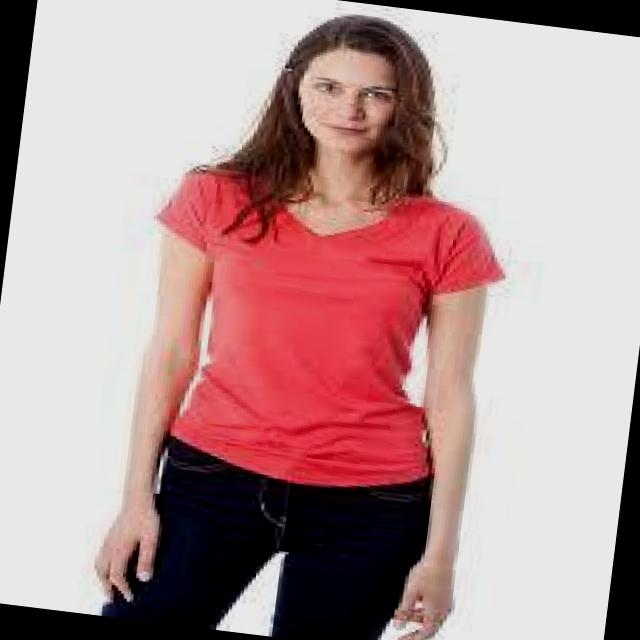Tshirt: (73, 146, 561, 518)
